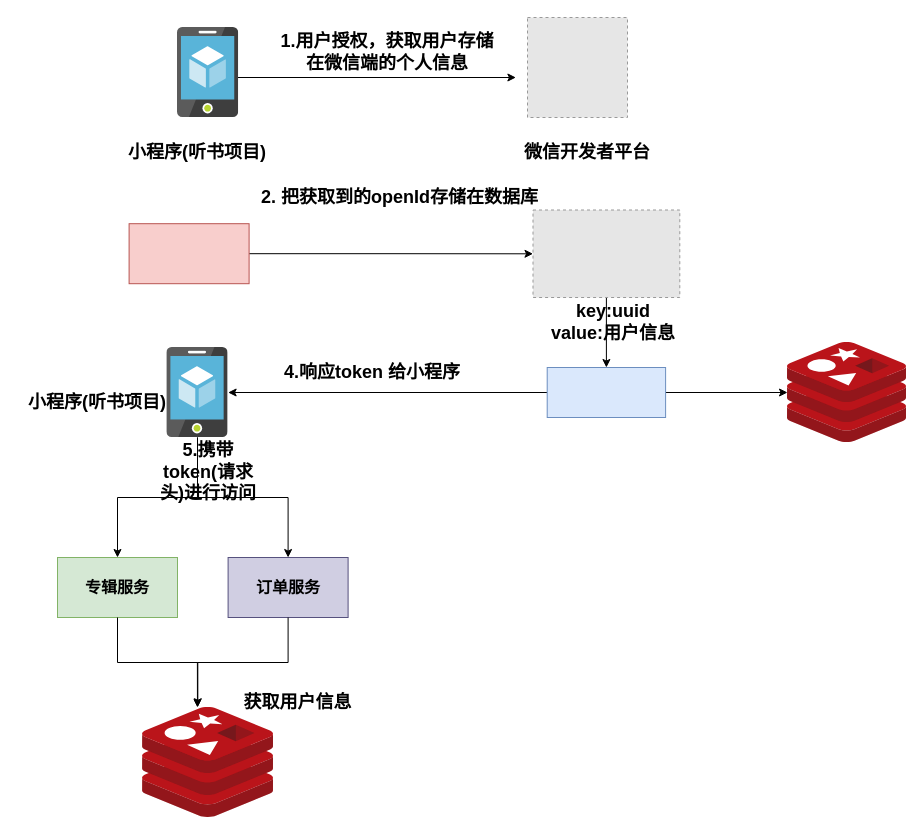
Image size: 923x835. Some labels were removed from this diagram. Grey dashed boxes stand in for pictures. Each missing label, with the box of its shape:
3.生成token: (546, 366, 666, 418)
用户微服务: (128, 223, 249, 284)
